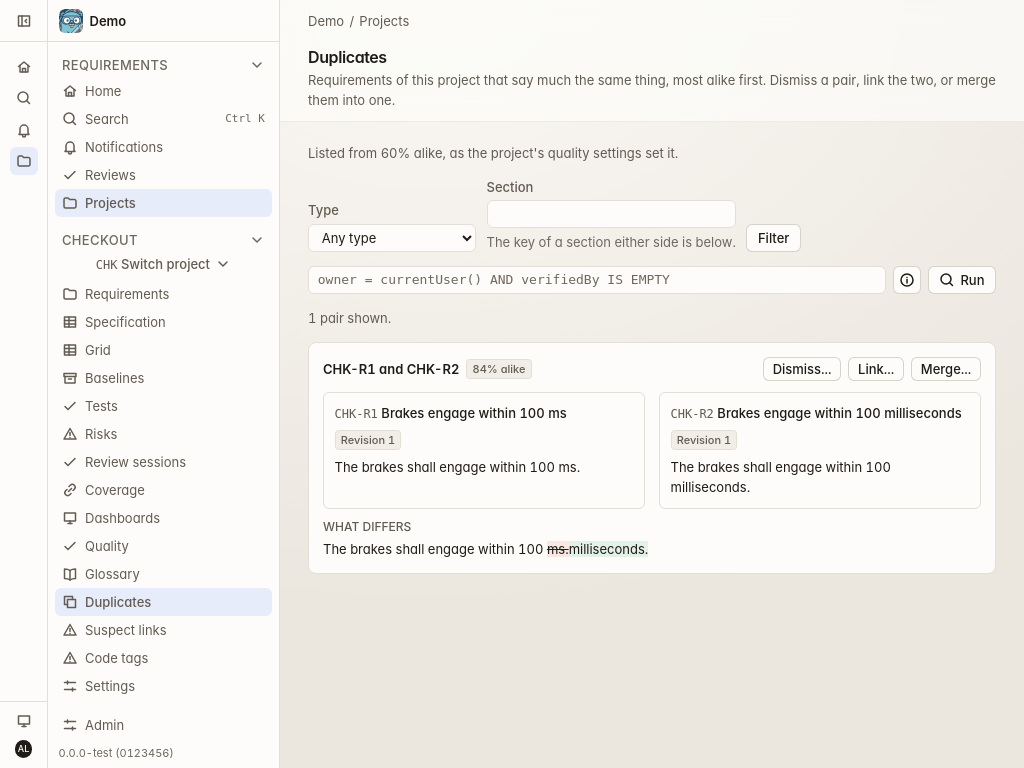
it: the duplicates page › says when a side changed since the pairs were read, and reads them again
The width and height of the screenshot is (1024, 768).
Click the button with aria-label "Dismiss CHK-R1 and CHK-R2" at (802, 369), box [763, 357, 841, 381]
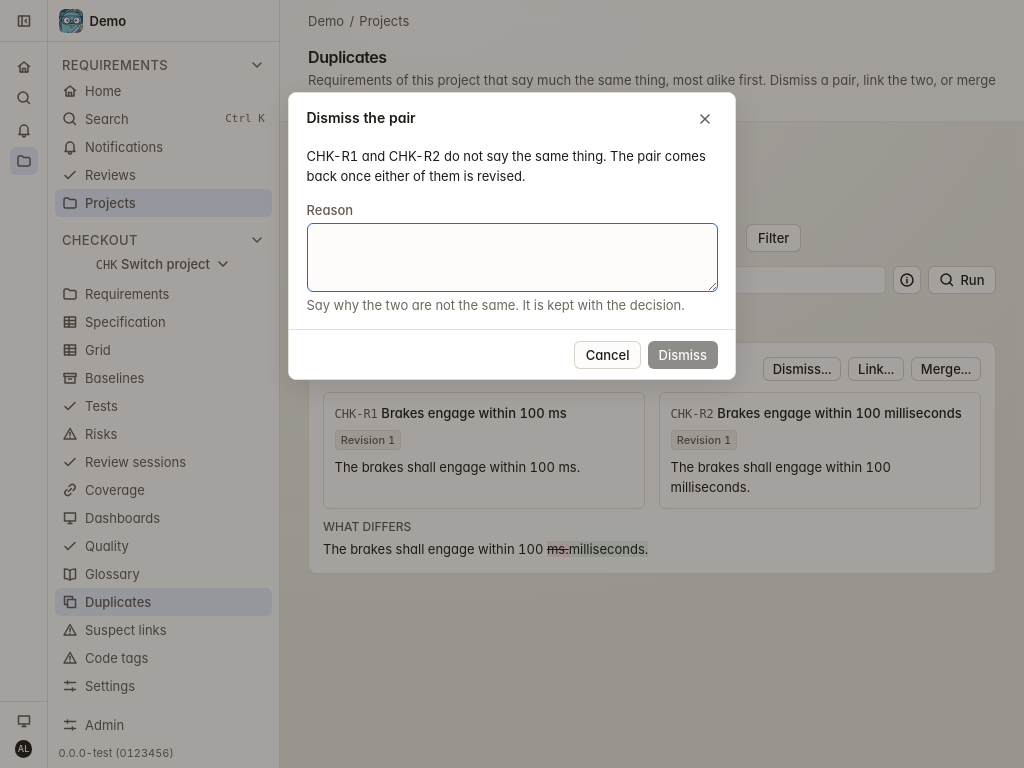
Type "Not the same." into the text box labelled "Reason" at (512, 257), box [306, 223, 718, 292]
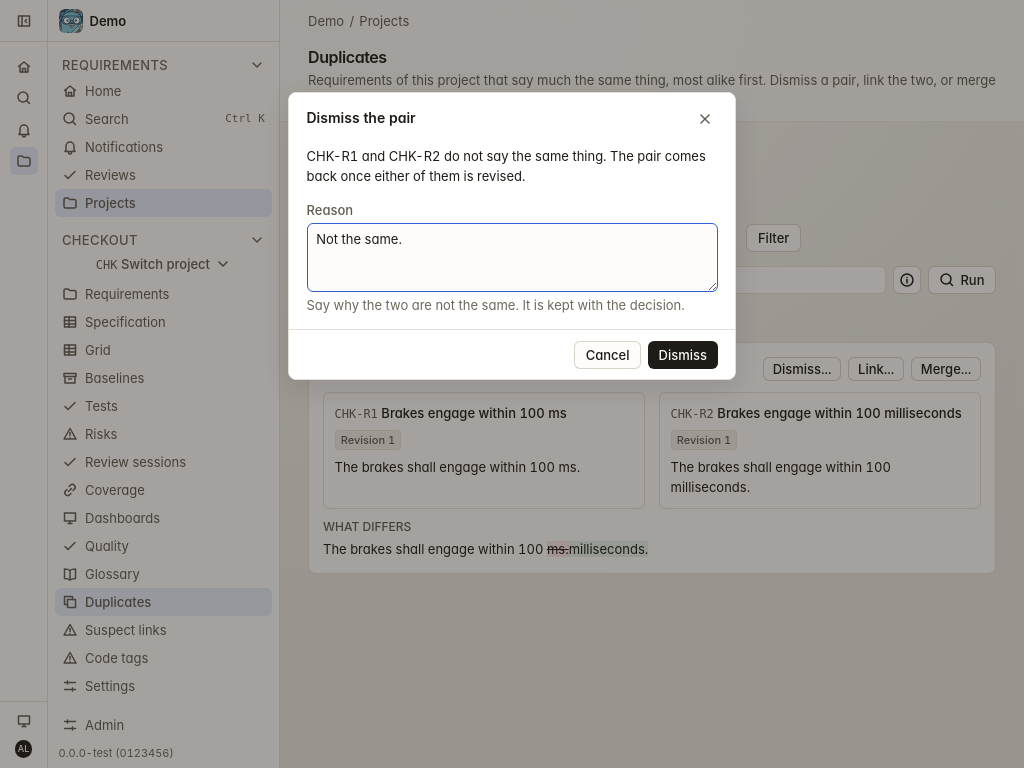
Click the button "Dismiss" at (683, 355), box [648, 341, 718, 369]
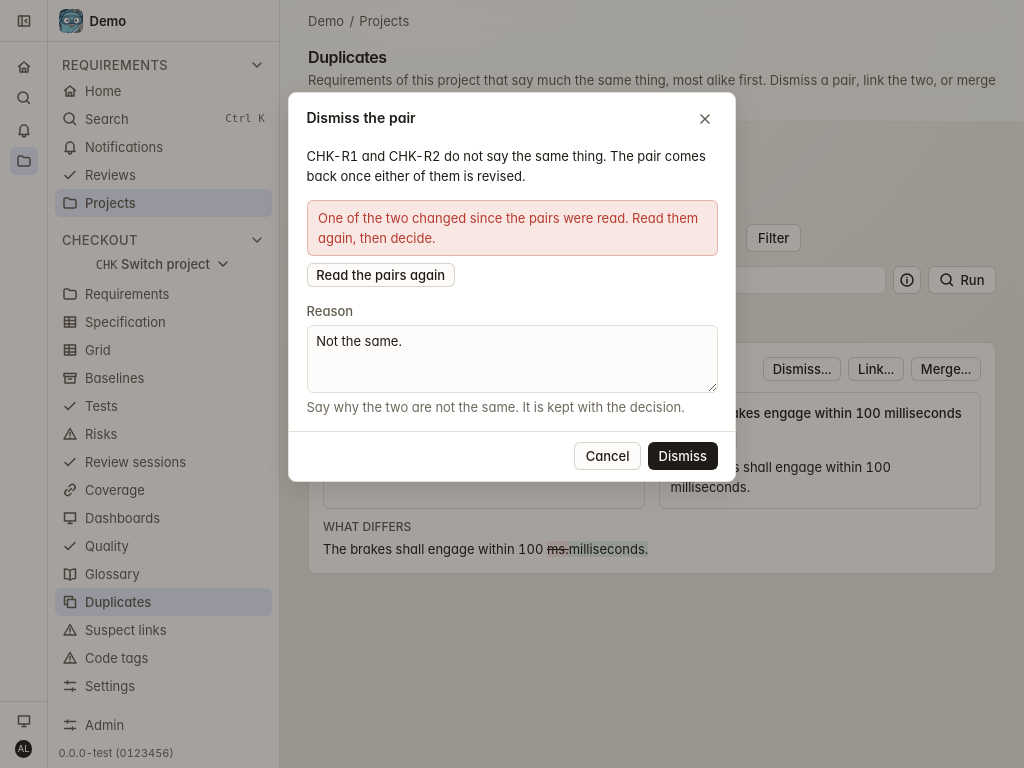
Result: the text "One of the two changed since the pairs were read. Read them again, then decide." is shown at [318, 208, 706, 248]
Click the button "Read the pairs again" at (381, 275), box [306, 263, 455, 287]
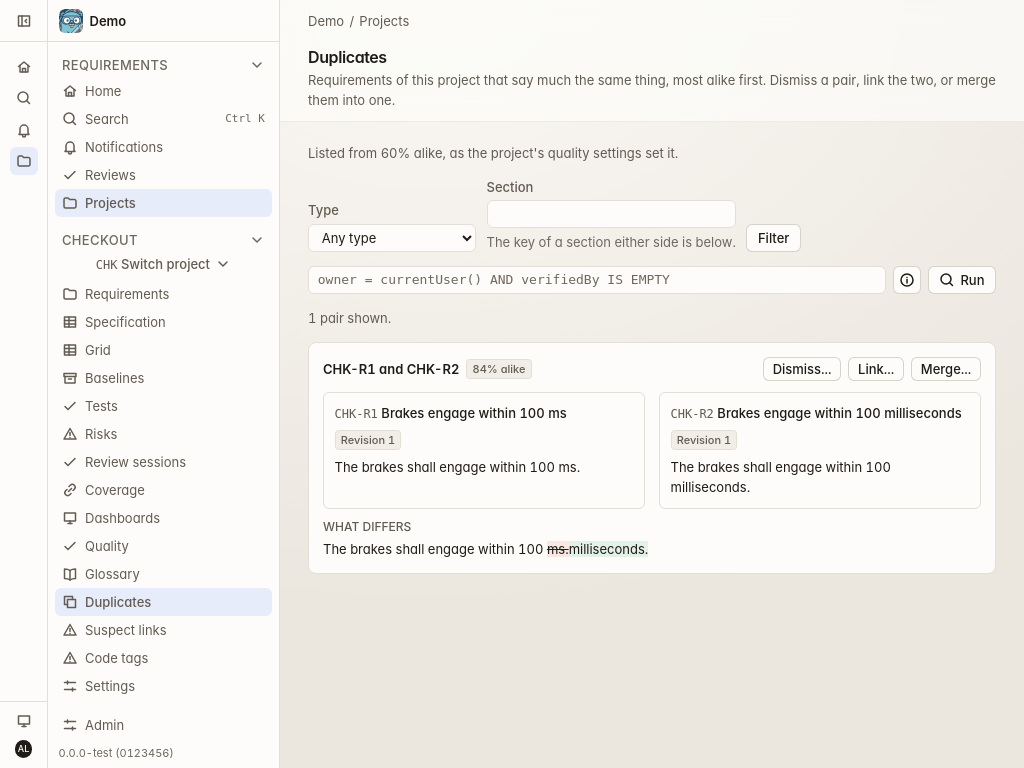
Result: the dialog is gone
